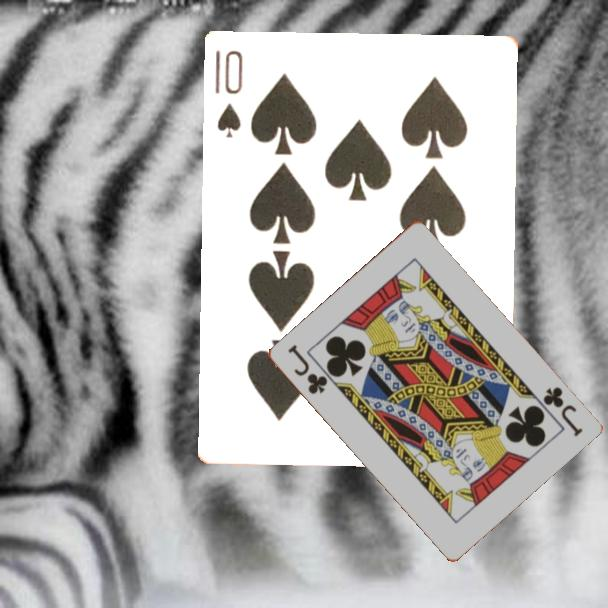c11: (539, 383, 585, 440), (284, 341, 330, 397)
s10: (212, 47, 246, 141)
